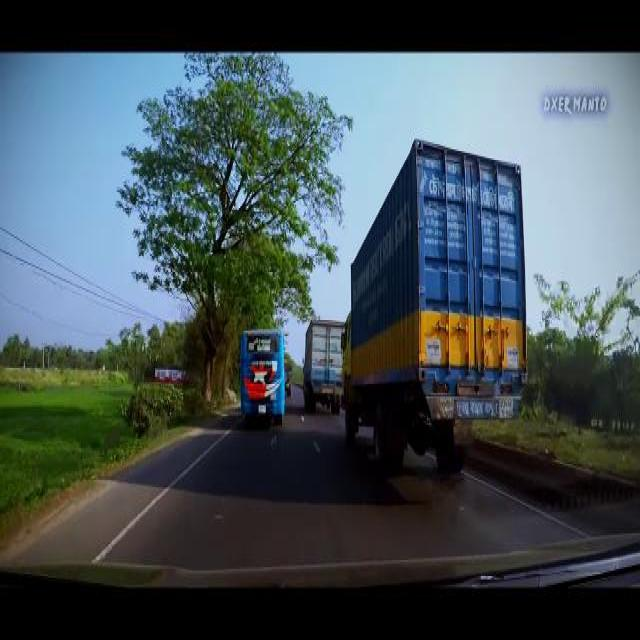bus: (238, 326, 286, 428)
truck: (338, 135, 528, 478), (300, 316, 342, 416)
